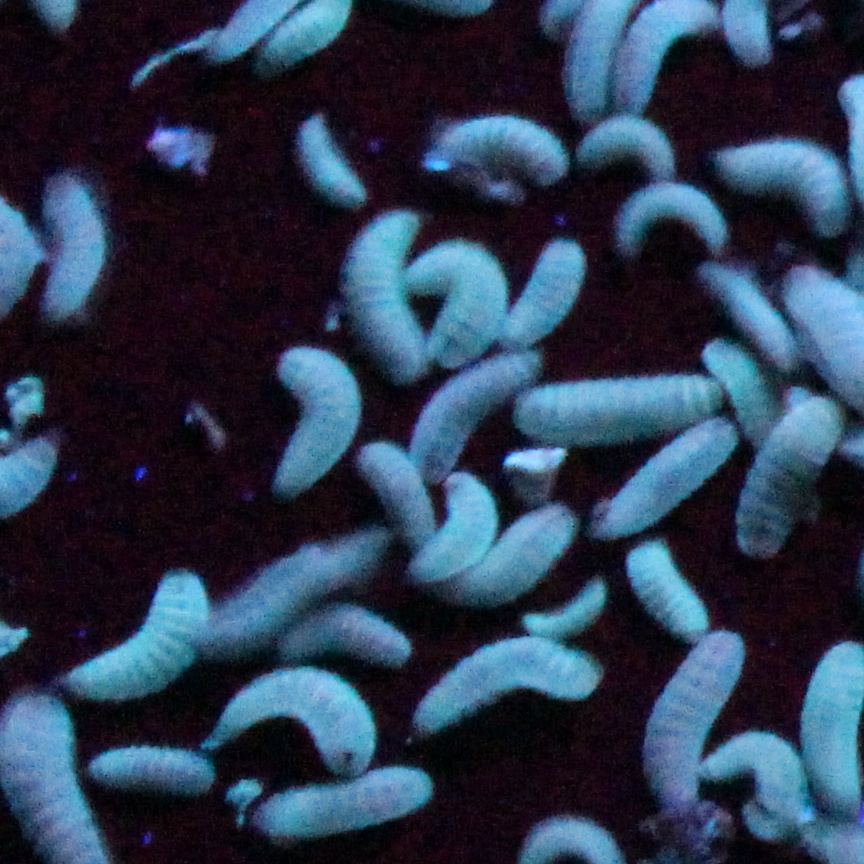larve: (195, 533, 385, 653), (636, 626, 746, 811), (60, 572, 212, 701), (731, 394, 846, 560), (595, 418, 743, 545), (419, 638, 604, 735), (212, 670, 380, 774), (519, 370, 724, 450), (343, 209, 434, 382), (412, 357, 531, 489), (402, 238, 512, 370), (260, 762, 436, 843), (719, 138, 853, 243), (458, 504, 578, 611), (275, 345, 360, 494), (702, 260, 807, 372), (492, 238, 592, 355), (409, 474, 499, 592), (39, 172, 109, 323), (431, 116, 565, 194), (348, 440, 436, 545), (626, 538, 717, 638), (617, 189, 729, 255), (300, 116, 368, 216), (280, 609, 407, 660), (92, 745, 219, 794), (526, 587, 604, 631)
